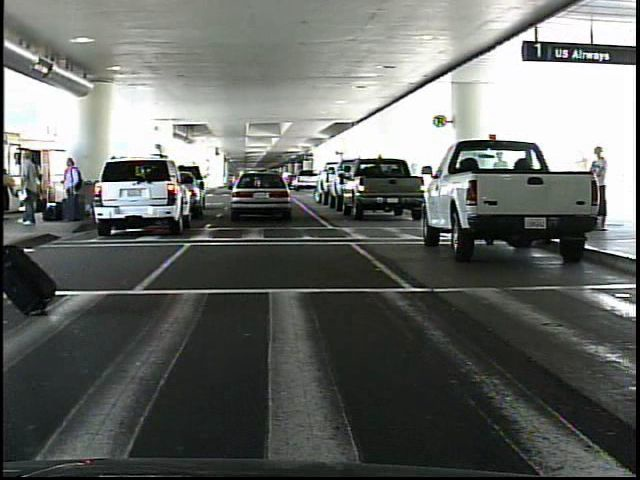person: (581, 146, 615, 231), (17, 150, 43, 226), (59, 156, 82, 224)
